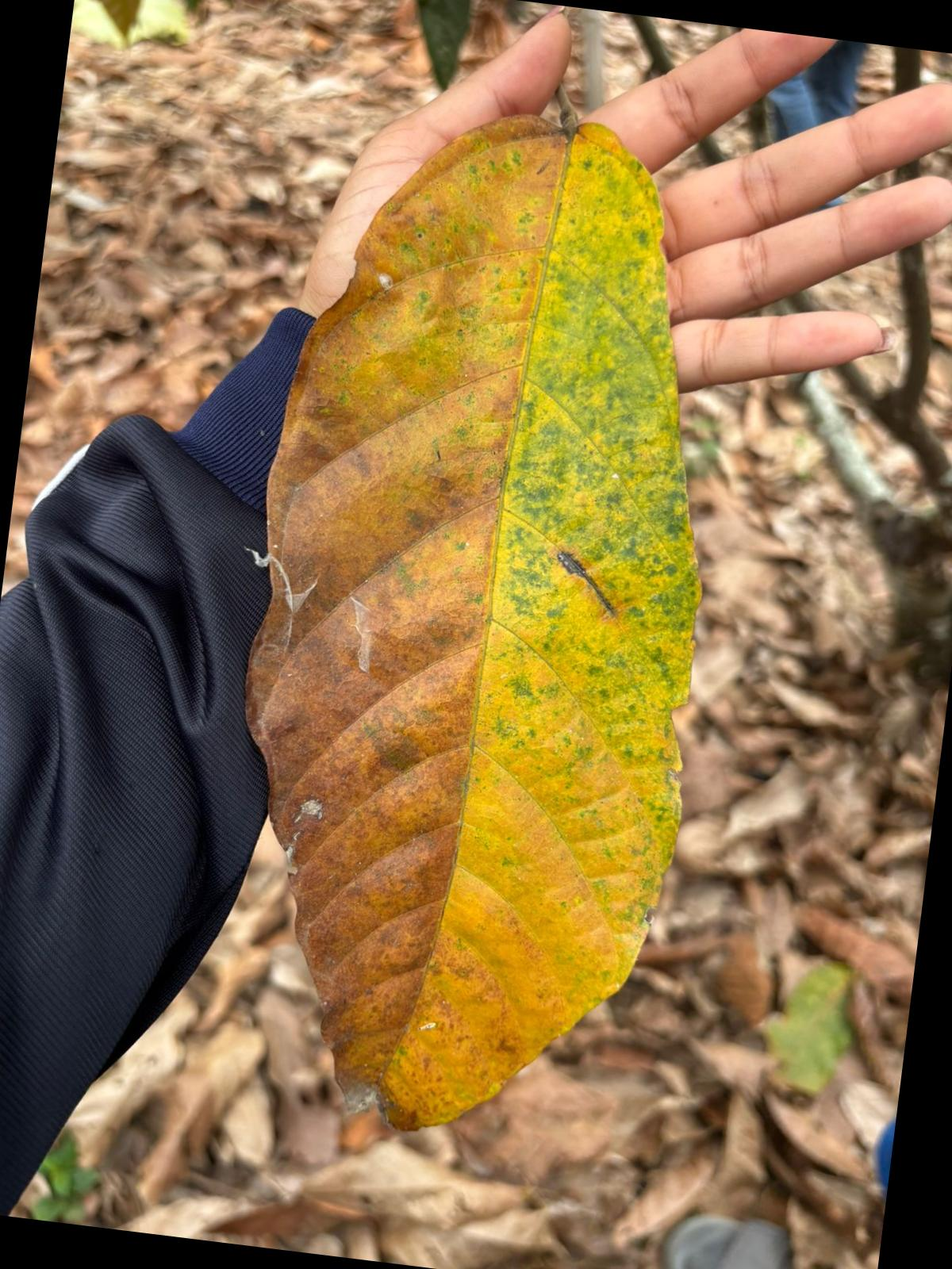Fosforo: (248, 112, 698, 1128)
